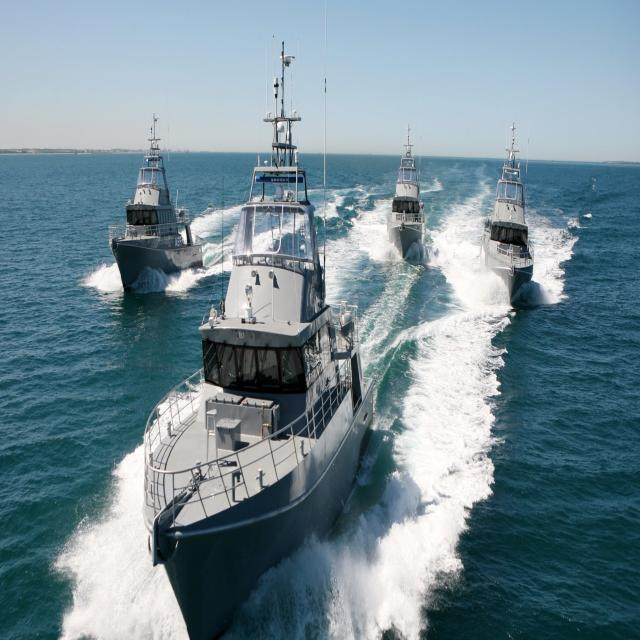houseboat: (143, 50, 373, 626), (111, 106, 203, 296), (483, 108, 534, 299), (384, 128, 429, 258)
